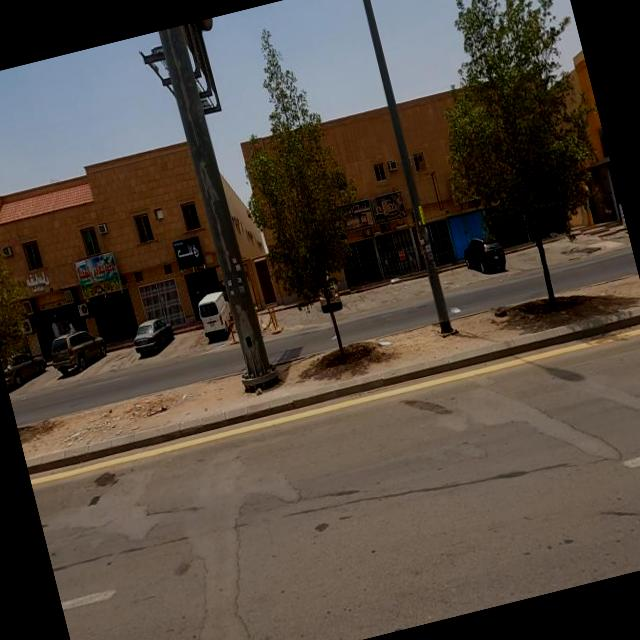debris: (418, 258, 496, 356), (354, 298, 422, 379), (156, 354, 218, 427)
